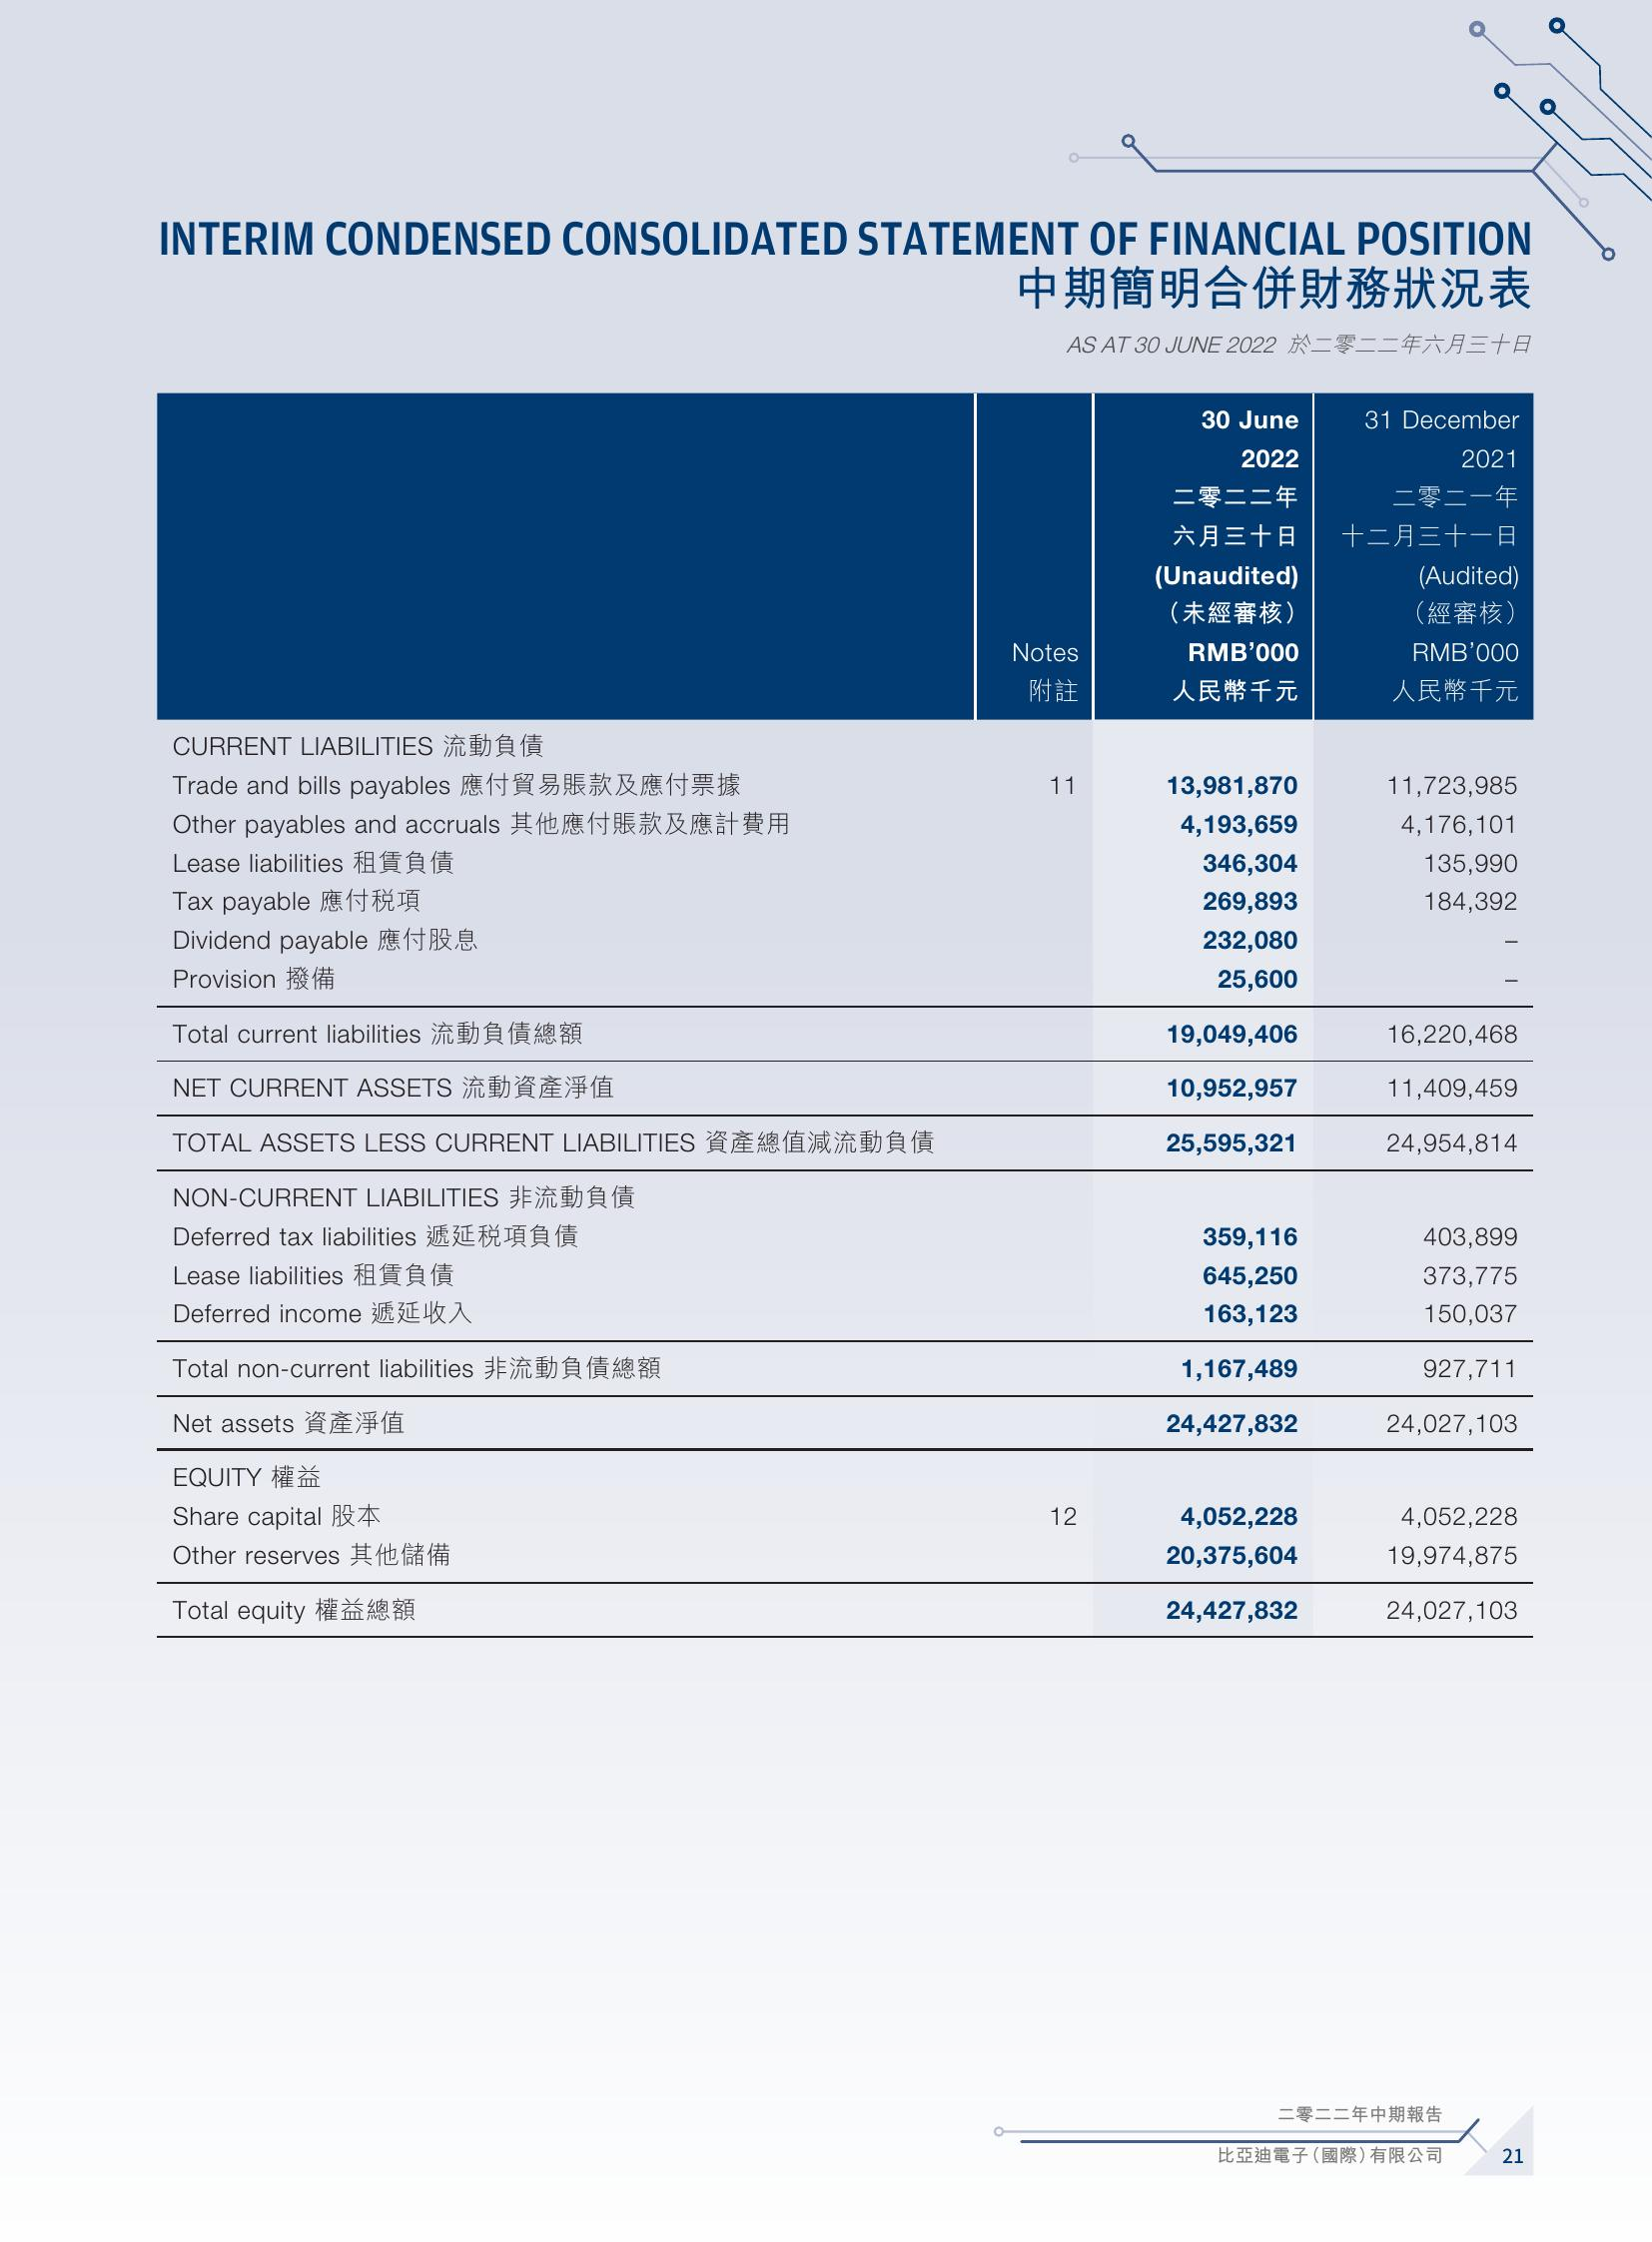Footer: (0, 2089, 1652, 2242)
Header: (0, 0, 1652, 193)
Table: (104, 362, 1568, 1678)
